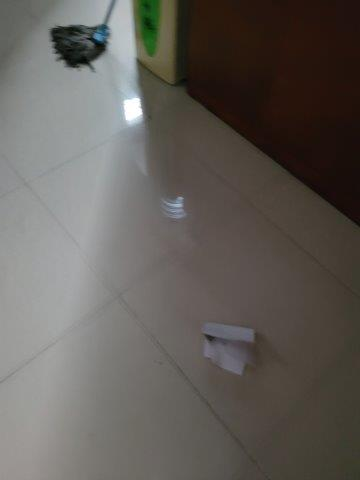kertas: (199, 323, 256, 377)
